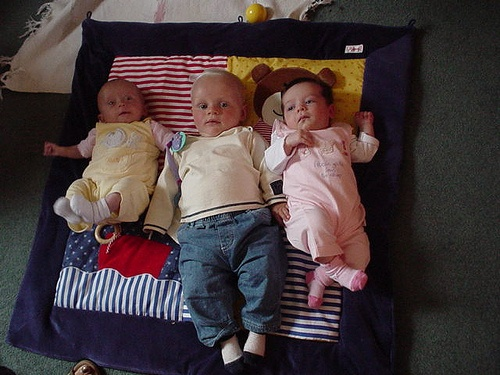head: (187, 69, 250, 139), (91, 78, 151, 129), (283, 76, 337, 132)
person: (157, 72, 287, 366), (261, 62, 381, 307), (41, 78, 175, 233)
